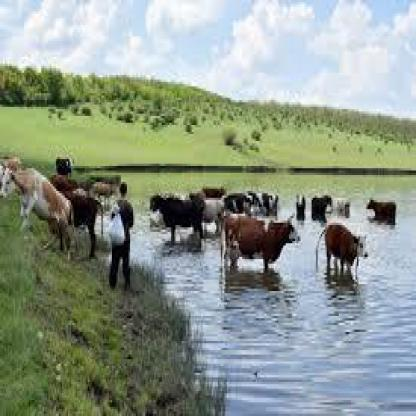cow: (0, 168, 76, 259), (219, 214, 300, 277), (146, 193, 206, 255), (325, 223, 371, 282), (68, 196, 104, 259), (247, 191, 279, 218), (368, 200, 396, 230), (96, 182, 120, 204), (310, 198, 334, 220), (330, 198, 352, 216), (56, 156, 74, 176), (202, 186, 226, 198), (298, 193, 307, 221)
